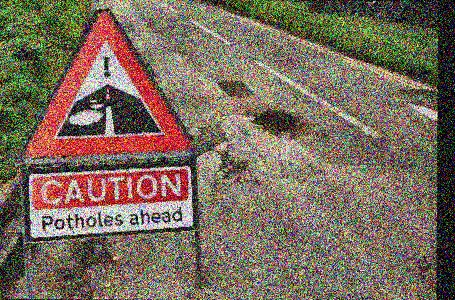pothole: (250, 108, 307, 138)
